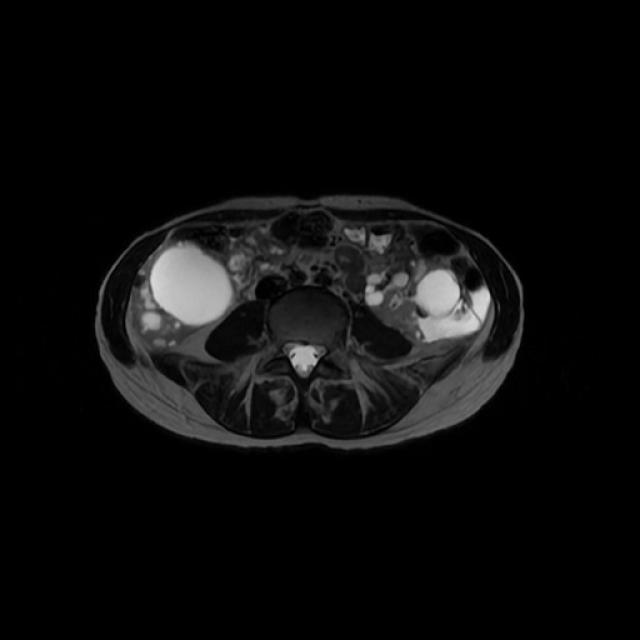sag: (130, 240, 237, 351)
sol: (363, 256, 482, 358)
